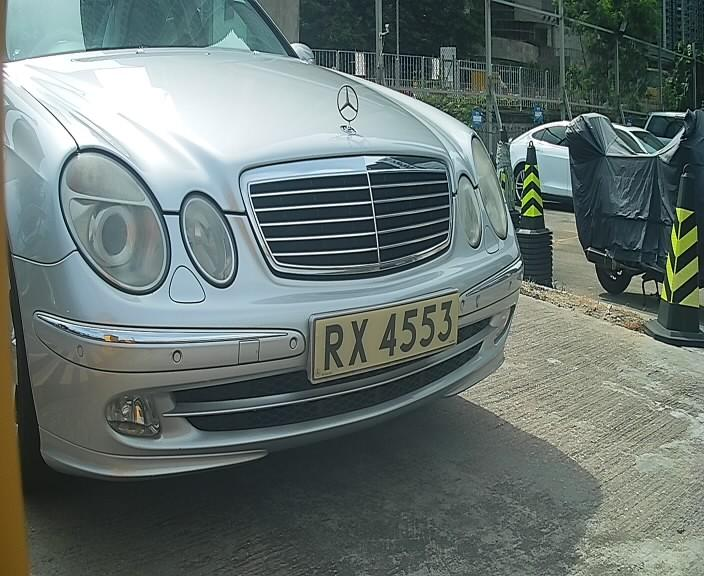License Plate: (296, 291, 456, 386)
